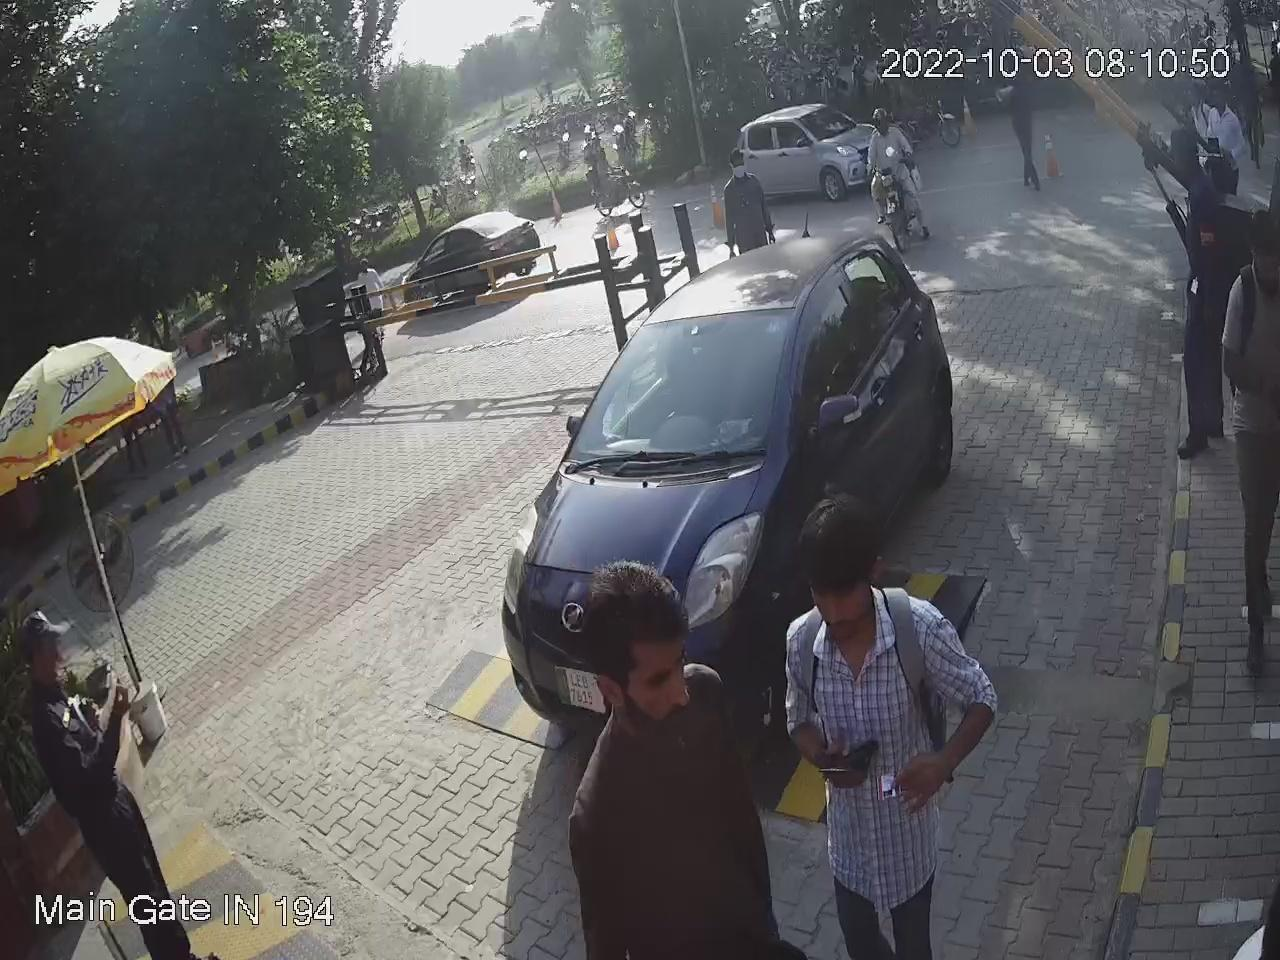windshield: (558, 295, 806, 480)
